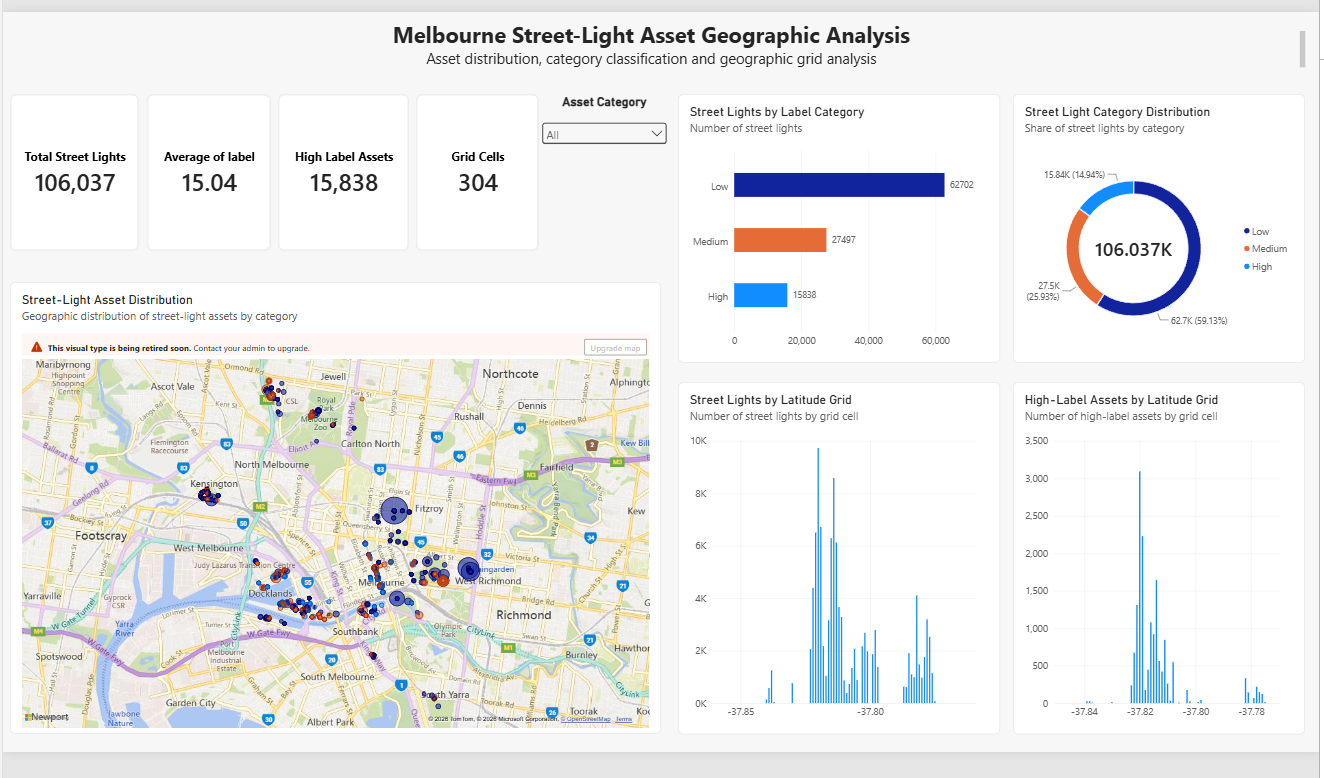

The dashboard page shown, as its layout file describes it:
{"tool":"powerbi","page":{"name":"Page 1","canvas":[1920,1080],"ordinal":0},"visuals":[{"type":"cardVisual","title":"Total Street Lights","fields":{"Data":["street_lights_powerbi.Total Street Lights Display"]},"box":[10.2,119.6,188.2,229.1],"z":0},{"type":"cardVisual","title":"Average Label","fields":{"Data":["Avg(street_lights_powerbi.label)"]},"box":[210.1,119.6,180.9,229.1],"z":1000},{"type":"cardVisual","title":"High Label Assets","fields":{"Data":["street_lights_powerbi.High Label Assets Display"]},"box":[401.2,119.6,191.1,229.1],"z":2000},{"type":"cardVisual","title":"Grid Cells","fields":{"Data":["street_lights_powerbi.Grid Cells"]},"box":[602.6,119.6,179.5,229.1],"z":3000},{"type":"map","title":"Street-Light Asset Distribution","fields":{"Series":["street_lights_powerbi.label_category"],"Size":["CountNonNull(street_lights_powerbi.label)"],"X":["street_lights_powerbi.Longitude"],"Y":["street_lights_powerbi.Latitude"]},"box":[10.2,393.9,949.8,659.5],"z":4000},{"type":"clusteredBarChart","title":"Street Lights by Label Category","fields":{"Category":["street_lights_powerbi.label_category"],"Y":["CountNonNull(street_lights_powerbi.ext_id)"]},"box":[984.8,119.6,469.8,392.5],"z":5000},{"type":"clusteredColumnChart","title":"Street Lights by Latitude Grid","fields":{"Category":["street_lights_powerbi.lat_grid"],"Y":["CountNonNull(street_lights_powerbi.ext_id)"]},"box":[984.8,539.8,469.8,513.6],"z":6000},{"type":"clusteredColumnChart","title":"High-Label Assets by Latitude Grid","fields":{"Category":["street_lights_powerbi.lat_grid"],"Y":["CountNonNull(street_lights_powerbi.ext_id)"]},"box":[1473.6,539.8,426,513.6],"z":7000},{"type":"donutChart","title":"Street Light Category Distribution","fields":{"Category":["street_lights_powerbi.label_category"],"Y":["CountNonNull(street_lights_powerbi.ext_id)"]},"box":[1473.6,119.6,426,392.5],"z":8000},{"type":"slicer","title":"Asset Category","fields":{"Values":["street_lights_powerbi.label_category"]},"box":[782,119.6,191.1,103.6],"z":9000},{"type":"textbox","box":[0,11.7,1899.6,68.6],"z":9001}]}

Visuals, with their boxes on the page's 1920x1080 design canvas (x1, y1, x2, y2). These are canvas units, not pixel positions in the 1324x778 screenshot, which may show the page scaled, cropped or inside an application window:
"Total Street Lights" cardVisual: left=10, top=120, right=198, bottom=349
"Average Label" cardVisual: left=210, top=120, right=391, bottom=349
"High Label Assets" cardVisual: left=401, top=120, right=592, bottom=349
"Grid Cells" cardVisual: left=603, top=120, right=782, bottom=349
"Street-Light Asset Distribution" map: left=10, top=394, right=960, bottom=1053
"Street Lights by Label Category" clusteredBarChart: left=985, top=120, right=1455, bottom=512
"Street Lights by Latitude Grid" clusteredColumnChart: left=985, top=540, right=1455, bottom=1053
"High-Label Assets by Latitude Grid" clusteredColumnChart: left=1474, top=540, right=1900, bottom=1053
"Street Light Category Distribution" donutChart: left=1474, top=120, right=1900, bottom=512
"Asset Category" slicer: left=782, top=120, right=973, bottom=223
textbox: left=0, top=12, right=1900, bottom=80
